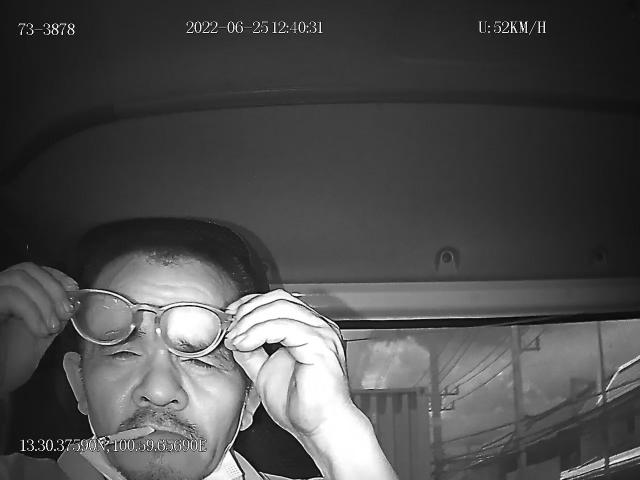Cigarette: (99, 427, 155, 449)
